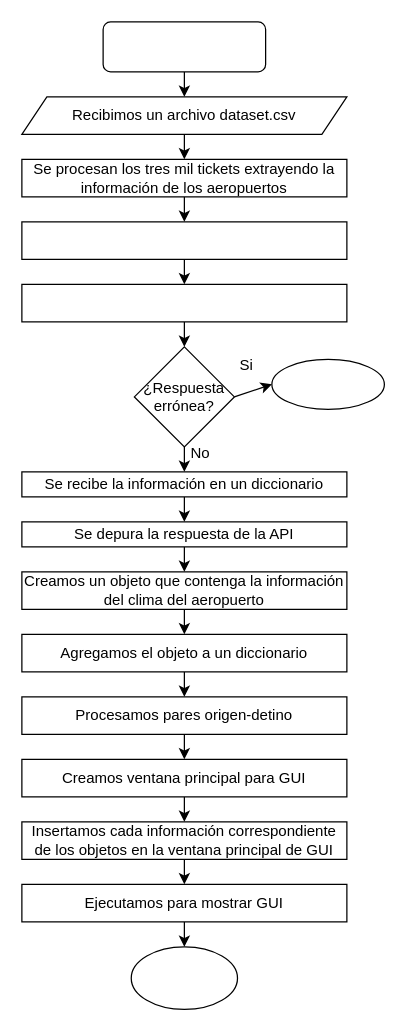
This 406x1031 diagram has some shape labels left out. Here are the shapes that lost their labels. From the top down, the centre of each, then its label:
the point at 184,46: Inicio
the point at 184,240: Se crea una caché de todos los códigos IATA sin repeticiones
the point at 184,302: Se solicita una petición a API de OpenWeatherMap
the point at 327,383: Lanzar excepción
the point at 184,977: Fin
